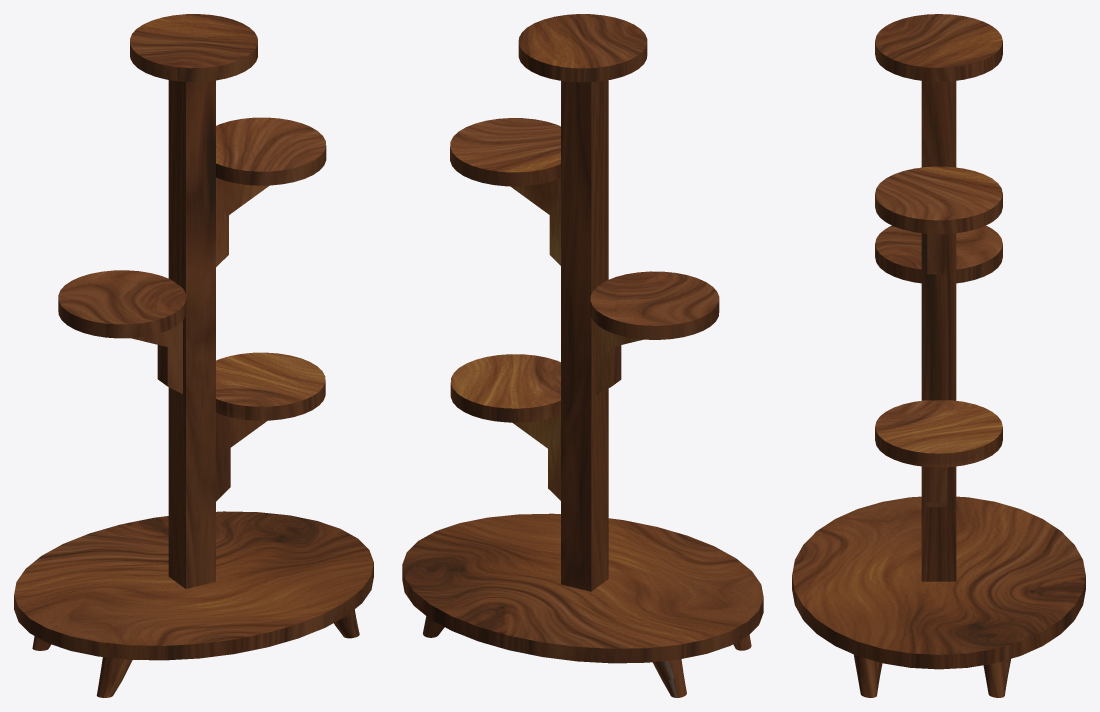
The model's file is wooden_flower_stand_free.glb.
The picture shows the model from 3 angles, left to right: view 1: azimuth 30°, elevation 25°; view 2: azimuth 150°, elevation 25°; view 3: azimuth 270°, elevation 25°; orthographic projection.
Parts seen in each view (by area): view 1: Wood1; view 2: Wood1; view 3: Wood1.
Part boxes in pixels (x1,y1,x2,y2): Wood1: (14, 14, 373, 697); Wood1: (402, 14, 763, 697); Wood1: (792, 14, 1085, 697).
Size of the model in its own units: 5.9 by 10.29 by 4.6.
Materials: 1 (1 with a texture image).
